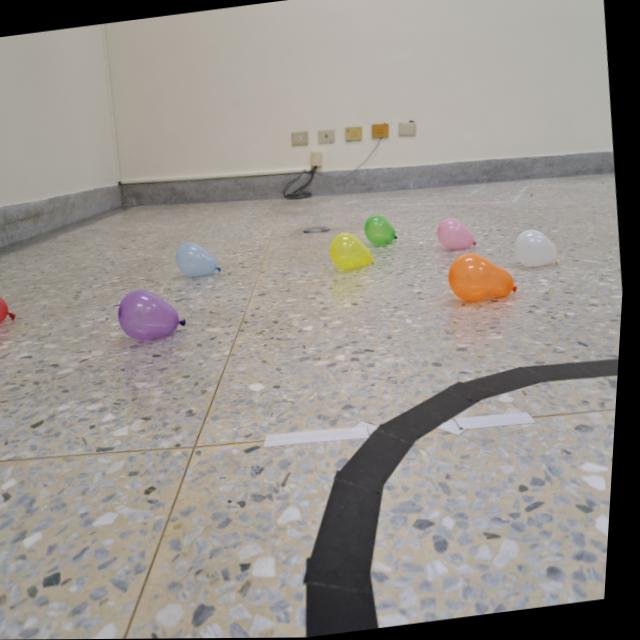other: (116, 282, 193, 345), (449, 248, 524, 305), (513, 225, 565, 273), (330, 228, 381, 274), (175, 238, 227, 280), (437, 214, 483, 253), (364, 210, 405, 248)
red: (0, 274, 22, 327)
